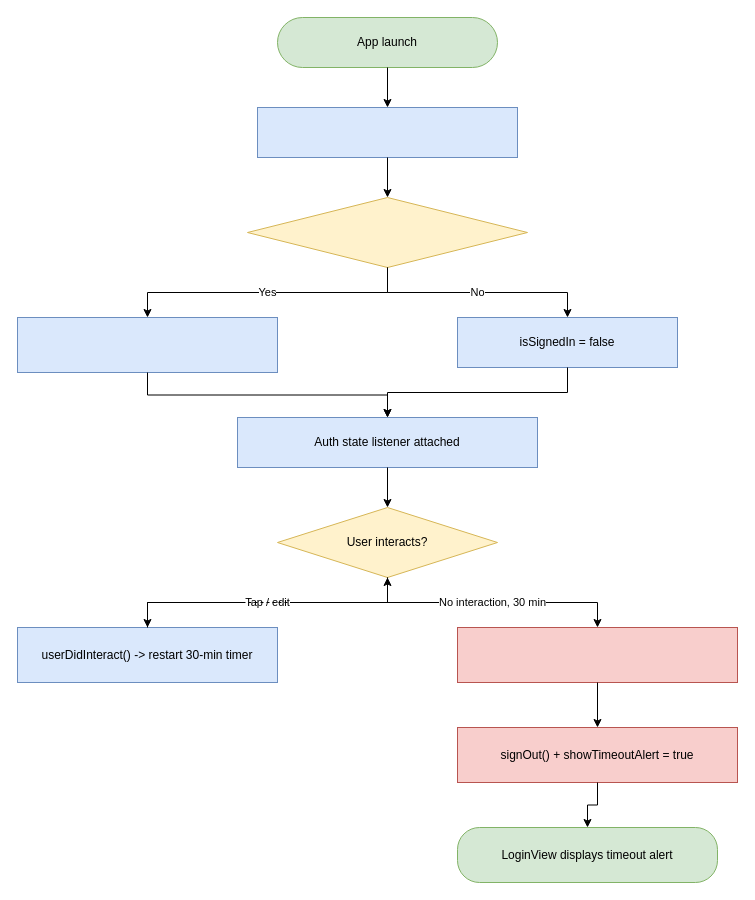
The diagram is 755 pixels wide and 900 high, and some of its shapes have lost their labels. Here are the shapes that lost their labels. From the top down, the box of each, then its label:
(256, 106, 518, 158): AuthViewModel.init()
(246, 196, 528, 268): Auth.auth().currentUser exists?
(16, 316, 278, 372): isSignedIn = true, startInactivityTimer()
(456, 626, 738, 682): No interaction 30 min -> Timer fires
